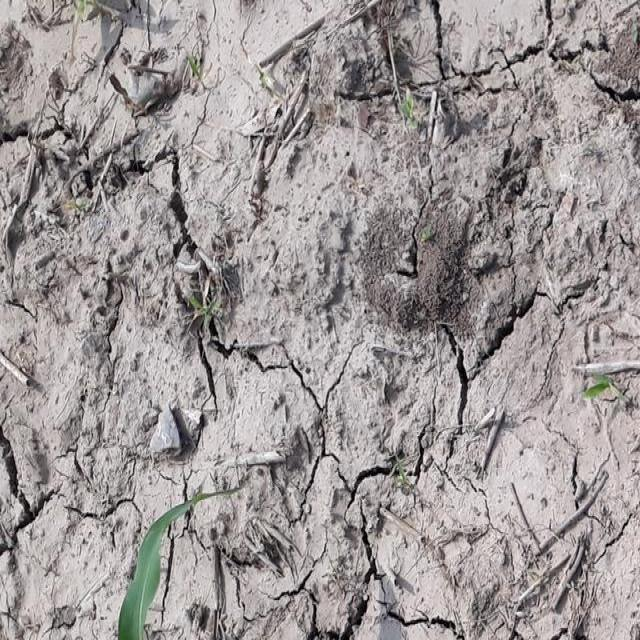weed: (576, 365, 627, 412)
